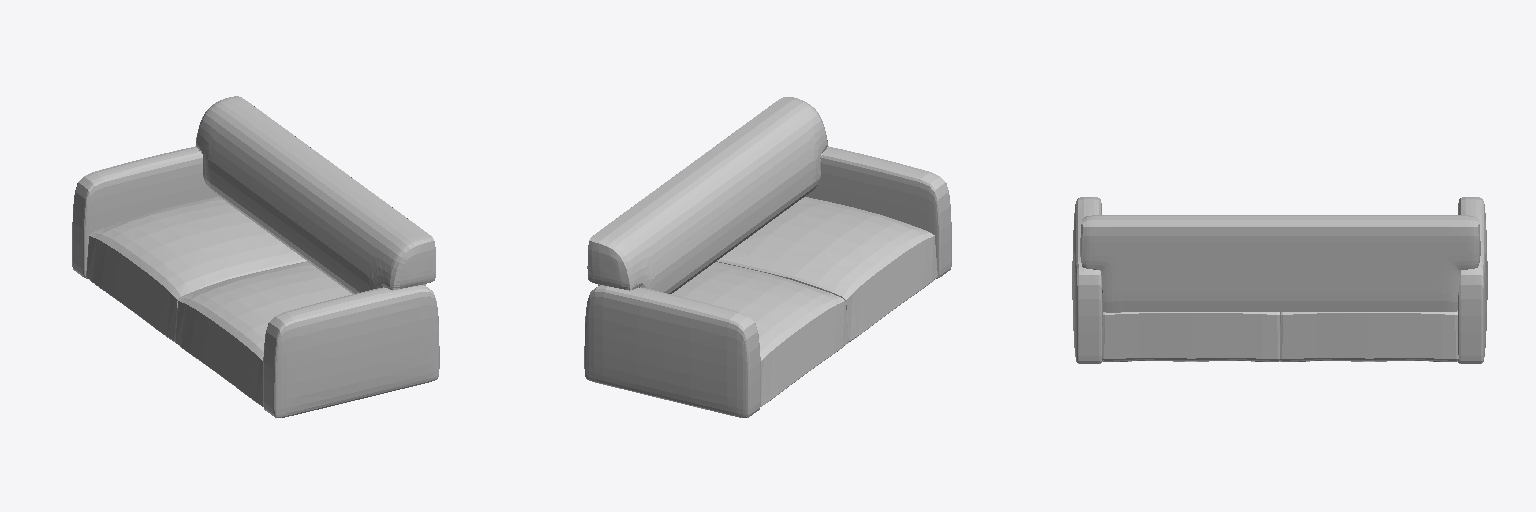
Rendered from sofa2.obj.
The picture shows the model from 3 angles: view 1: azimuth 30°, elevation 25°; view 2: azimuth 150°, elevation 25°; view 3: azimuth 270°, elevation 25°; orthographic projection.
Visible parts, largest first — view 1: sofa2.1; view 2: sofa2.1; view 3: sofa2.1.
Part boxes in pixels (x1,y1,x2,y2): sofa2.1: (72,96,439,417); sofa2.1: (584,97,951,417); sofa2.1: (1072,197,1487,363).
Bounding box in the file's own units: 938 × 757 × 2032.